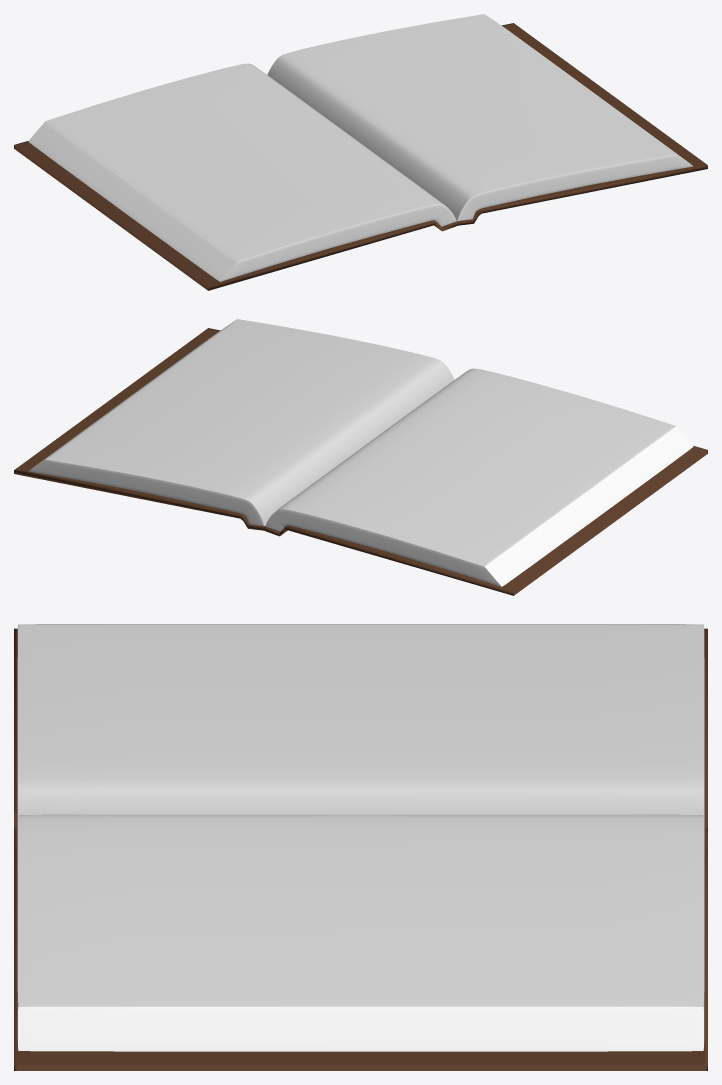
The model's file is book.glb.
3 views of the same model, one above another, from view 1: azimuth 30°, elevation 25°; view 2: azimuth 150°, elevation 25°; view 3: azimuth 270°, elevation 25° (orthographic). The views are drawn at different scales.
Parts seen in each view (by area): view 1: Base Pages, Binding; view 2: Base Pages, Binding; view 3: Base Pages, Binding.
Boxes of the visible parts, bbox=[...] form: Base Pages: bbox=[28, 14, 693, 281]; Binding: bbox=[14, 23, 707, 290]; Base Pages: bbox=[28, 319, 693, 586]; Binding: bbox=[14, 328, 707, 595]; Base Pages: bbox=[17, 624, 704, 1051]; Binding: bbox=[14, 628, 707, 1070].
Bounding box in the file's own units: 3 × 0.1756 × 2.02.
